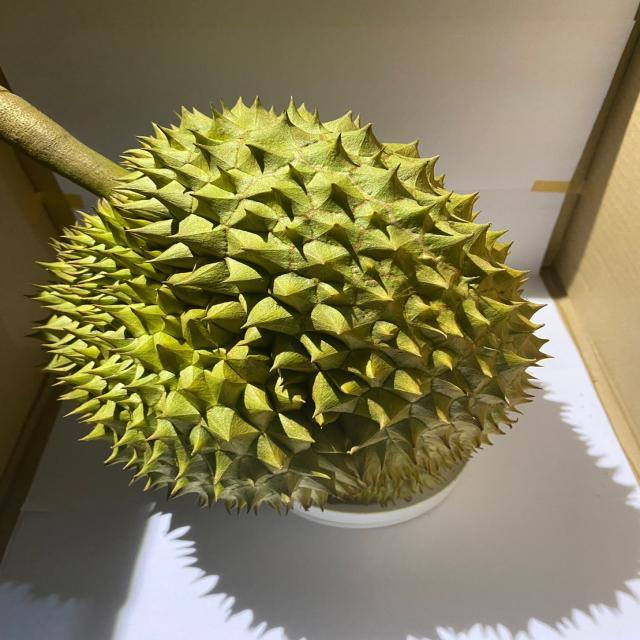immature: (22, 92, 558, 516)
